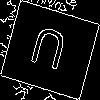U: (25, 25, 70, 80)
